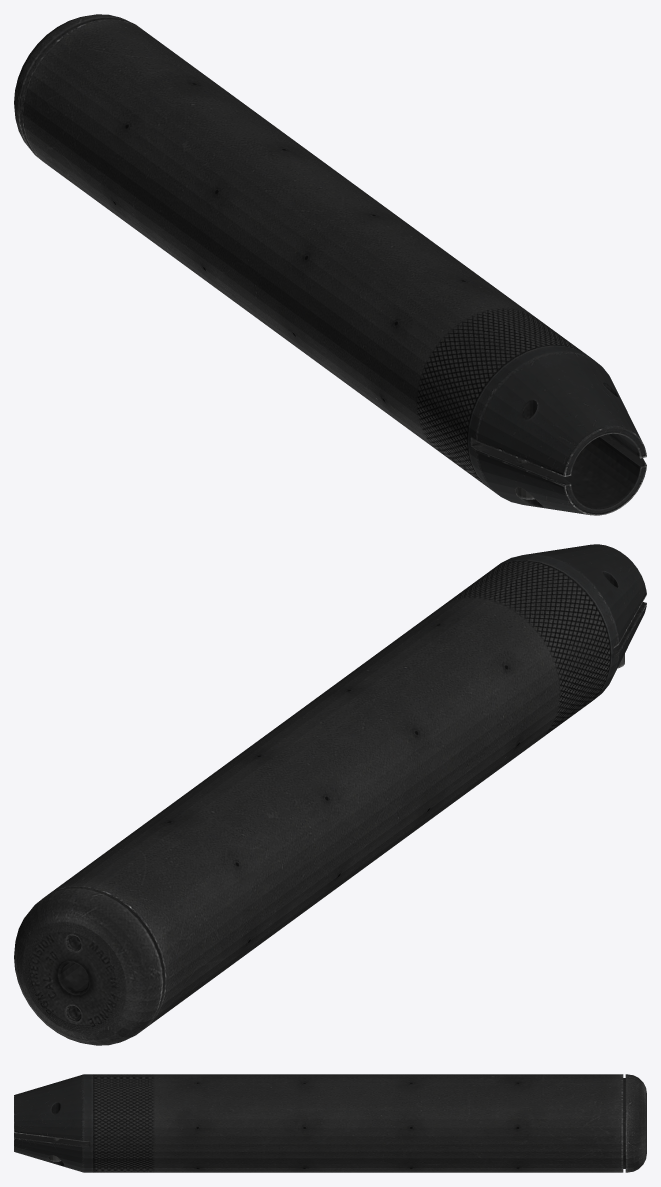
The picture shows the model from 3 angles, top to bottom: view 1: azimuth 30°, elevation 25°; view 2: azimuth 150°, elevation 25°; view 3: azimuth 270°, elevation 25°; orthographic projection. The views are drawn at different scales.
Visible parts, largest first — view 1: TW_673f0a9370a3ddcf0d0ee0b8_PZ_Import; view 2: TW_673f0a9370a3ddcf0d0ee0b8_PZ_Import; view 3: TW_673f0a9370a3ddcf0d0ee0b8_PZ_Import.
Boxes of the visible parts, x1,y1,x2,y2 form: TW_673f0a9370a3ddcf0d0ee0b8_PZ_Import: (14,14,646,515); TW_673f0a9370a3ddcf0d0ee0b8_PZ_Import: (14,544,646,1045); TW_673f0a9370a3ddcf0d0ee0b8_PZ_Import: (14,1074,646,1172).
Size of the model in its own units: 0.026 by 0.167 by 0.026.
1 material, 1 textured.
